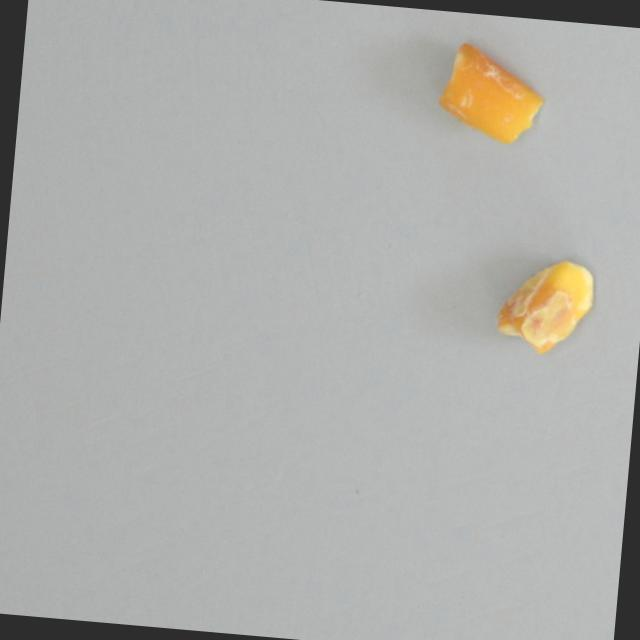dañado: (430, 34, 553, 149), (489, 247, 599, 362)
